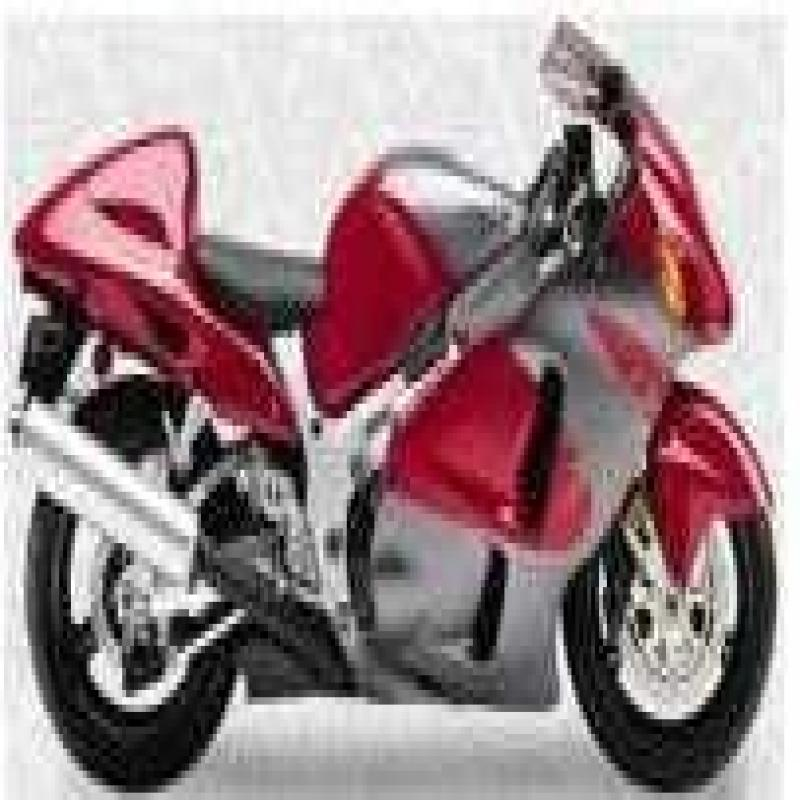bike: (14, 6, 779, 774)
